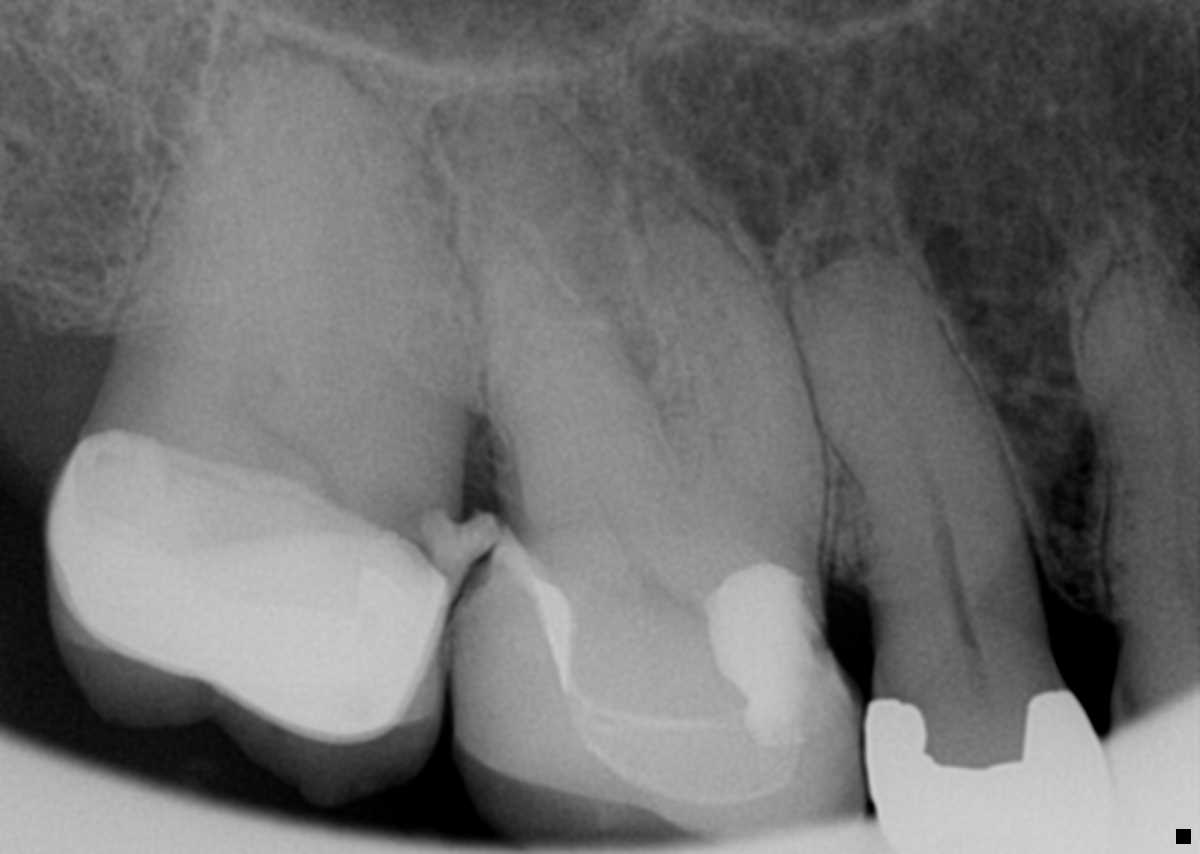Apical Lesion: (780, 225, 895, 292), (634, 161, 727, 228)
Distal Root: (487, 239, 679, 536)
Main Canal: (892, 389, 967, 604), (1151, 329, 1191, 579)
Main Root: (111, 49, 472, 470), (787, 248, 1049, 606), (1081, 255, 1200, 619)
Mesial Root: (644, 207, 825, 549)
Palatal Root: (434, 95, 797, 560)
